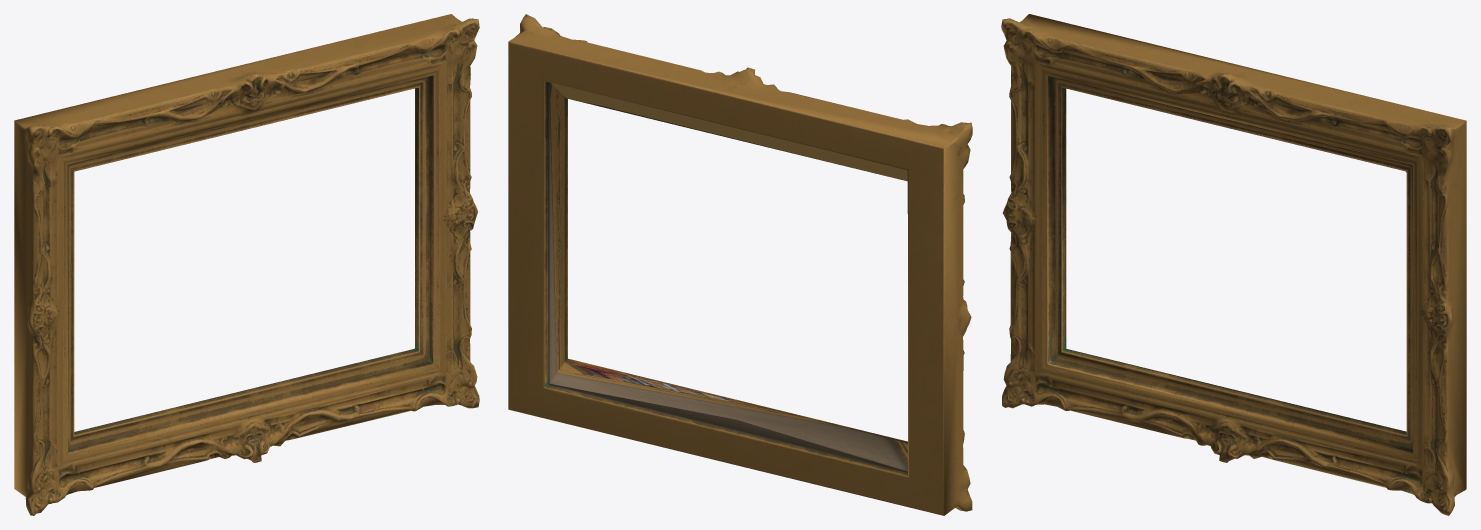
The model's file is third-painting-frame 3.glb.
3 views of the same model, side by side, from view 1: azimuth 30°, elevation 25°; view 2: azimuth 150°, elevation 25°; view 3: azimuth 330°, elevation 25° (orthographic).
Parts seen in each view (by area): view 1: SM_Frame_Ornate_01; view 2: SM_Frame_Ornate_01; view 3: SM_Frame_Ornate_01.
Part boxes in pixels (box(x1,y1,x2,y2)): SM_Frame_Ornate_01: box(14, 14, 479, 515); SM_Frame_Ornate_01: box(508, 14, 972, 515); SM_Frame_Ornate_01: box(1001, 14, 1466, 515).
Size of the model in its own units: 96.94 by 80.06 by 9.42.
1 material, 1 textured.
